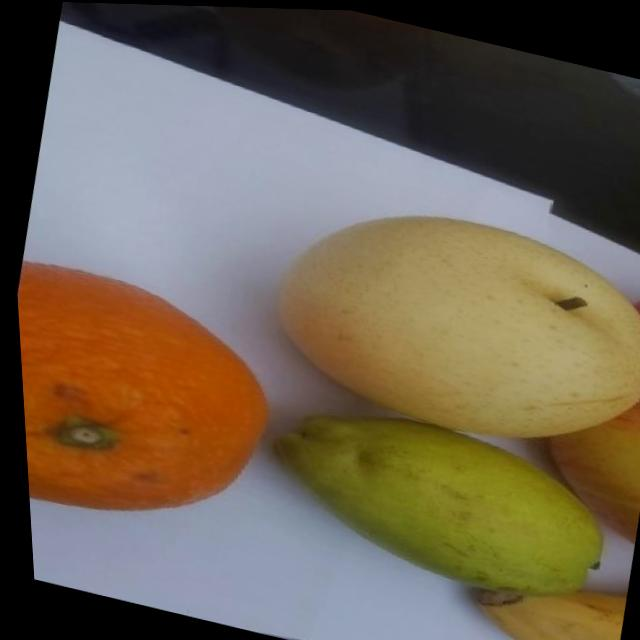Banana: (456, 557, 621, 640)
Orange: (12, 254, 289, 549)
